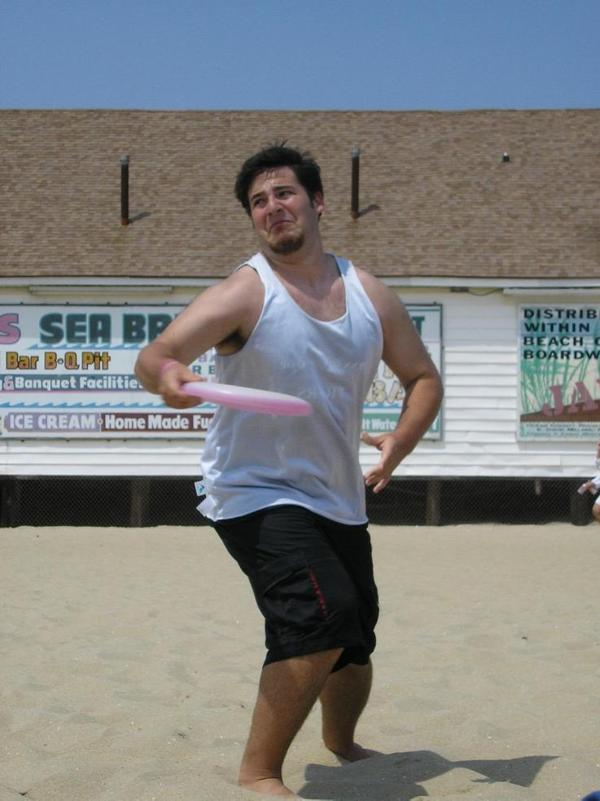person: (134, 144, 442, 799)
